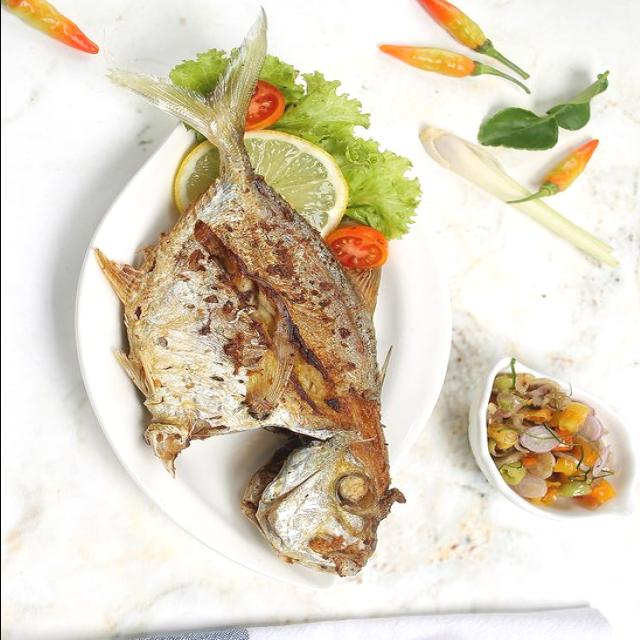ikan goreng: (93, 34, 396, 578)
